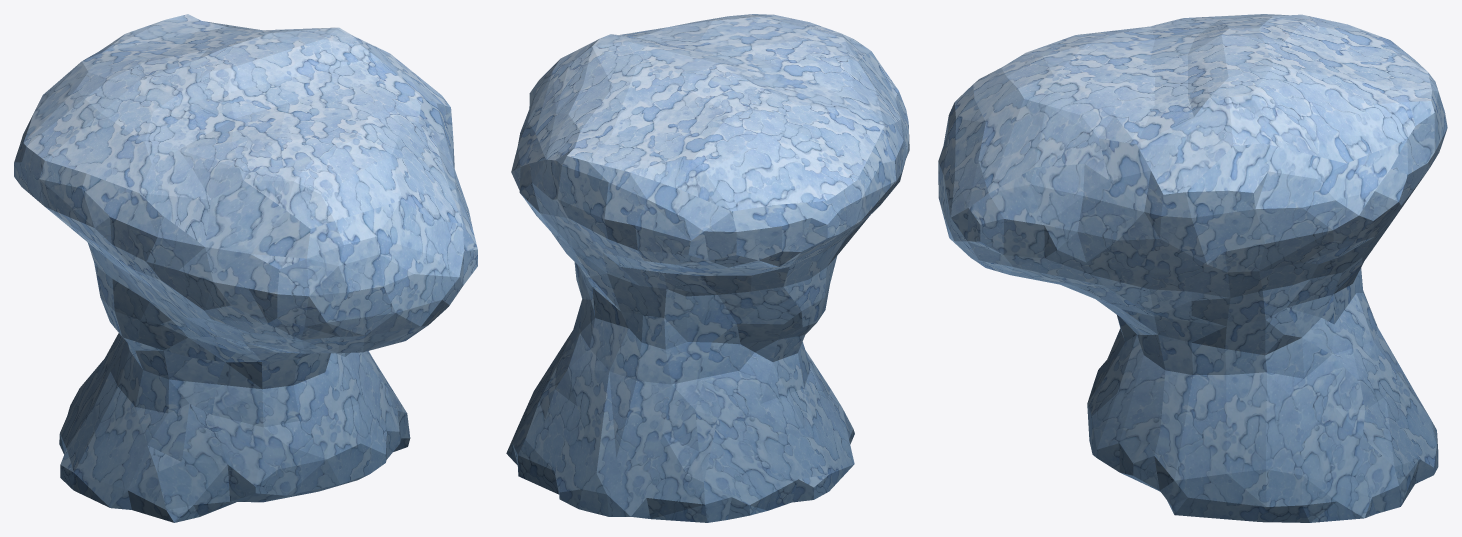
File: ice_berg_b.glb
The picture shows the model from 3 angles, left to right: view 1: azimuth 30°, elevation 25°; view 2: azimuth 150°, elevation 25°; view 3: azimuth 270°, elevation 25°; orthographic projection. The views are drawn at different scales.
Visible parts, largest first — view 1: ice_berg_b; view 2: ice_berg_b; view 3: ice_berg_b.
Part boxes in pixels (box(x1,y1,x2,y2)): ice_berg_b: box(14, 14, 477, 522); ice_berg_b: box(506, 14, 909, 522); ice_berg_b: box(938, 14, 1447, 522).
Size of the model in its own units: 12.2 by 13.33 by 14.51.
Materials: 1 (1 with a texture image).
